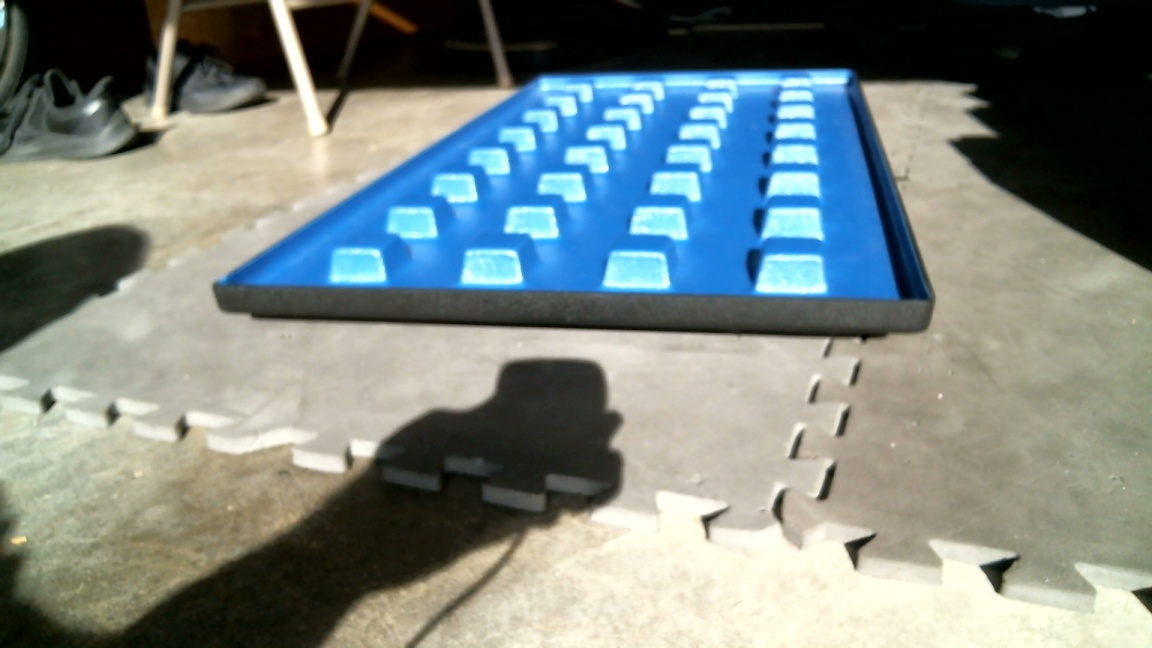blue_foundation: (206, 70, 938, 348)
